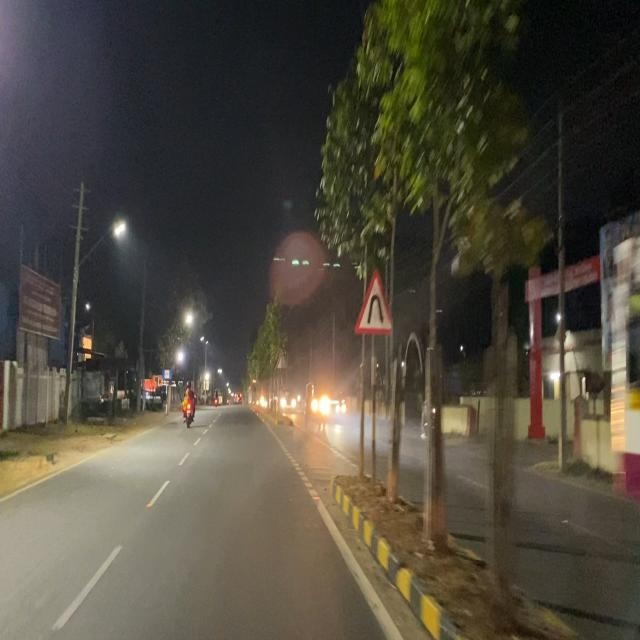bien_nguy_hiem: (353, 265, 394, 334)
